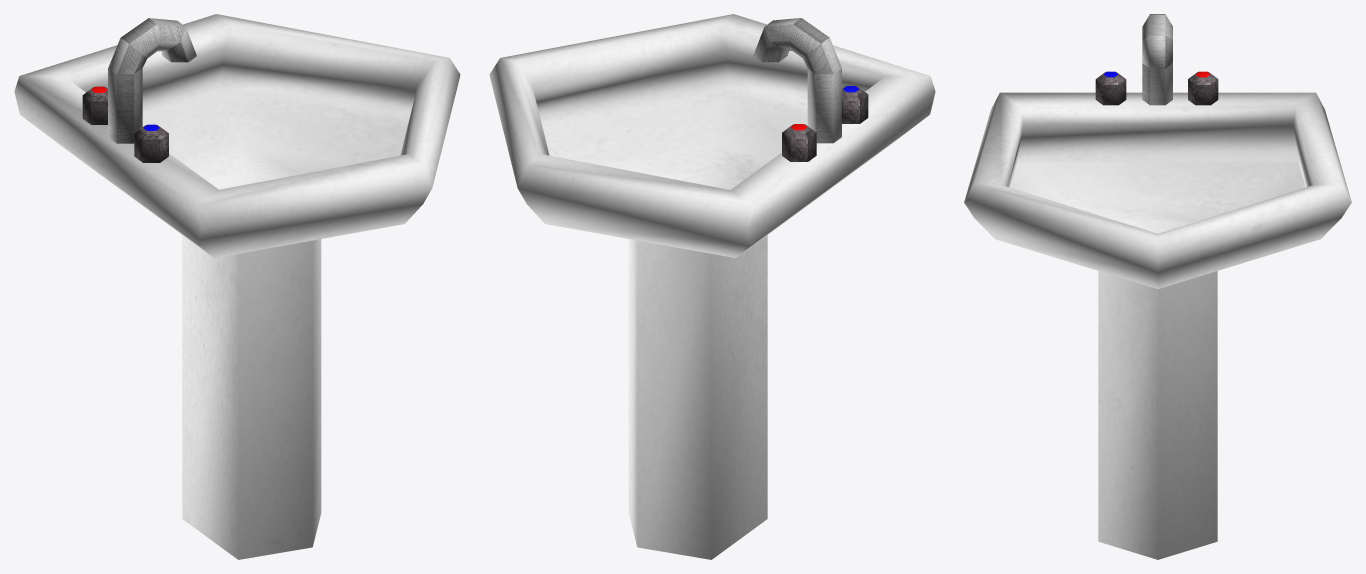
File: evier.fbx
The picture shows the model from 3 angles, left to right: view 1: azimuth 30°, elevation 25°; view 2: azimuth 150°, elevation 25°; view 3: azimuth 270°, elevation 25°; orthographic projection. The views are drawn at different scales.
Parts seen in each view (by area): view 1: evier; view 2: evier; view 3: evier.
Part boxes in pixels (x1,y1,x2,y2): evier: [14, 14, 460, 559]; evier: [489, 14, 935, 559]; evier: [964, 14, 1351, 559].
Bounding box in the file's own units: 90.06 × 130 × 96.86.
